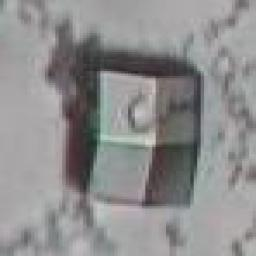crystals: (69, 56, 205, 210)
